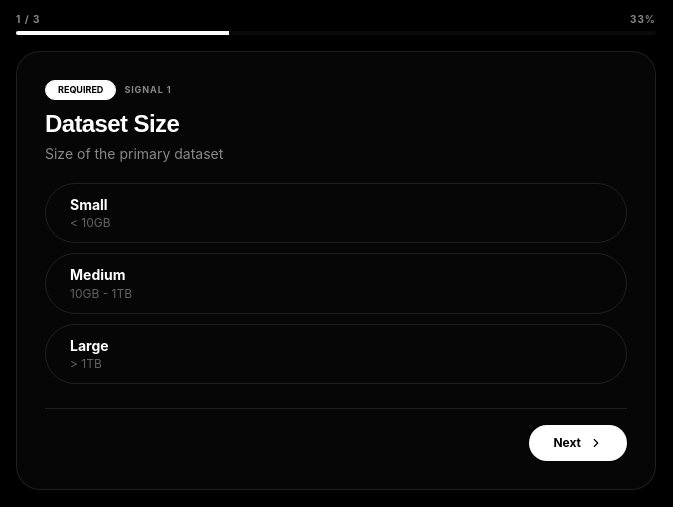
Test: QuestionnaireForm — Multi-Step Navigation › advances to step 2 after answering required step 1
This screenshot has width=673, height=507.
Expected: the heading "Dataset Size" is shown, 45,110 -> 179,136
Click the text "Large" at coordinates (89, 345), box 70,337 -> 109,354
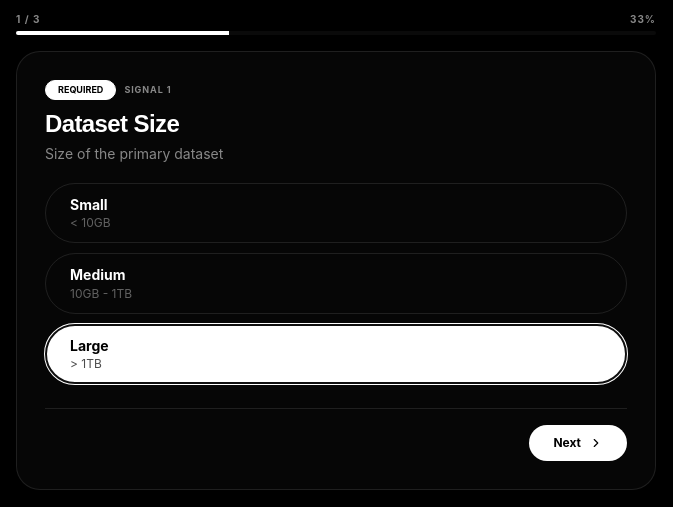
Click the button "Next" at coordinates (578, 443), box 529,425 -> 627,461
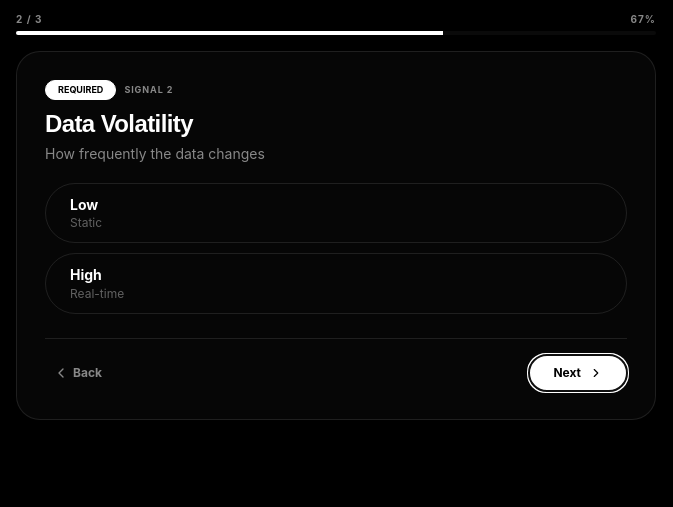
Now the heading "Data Volatility" is shown, box 45,110 -> 193,136
Now the text "2 / 3" is shown, box 16,12 -> 42,27
